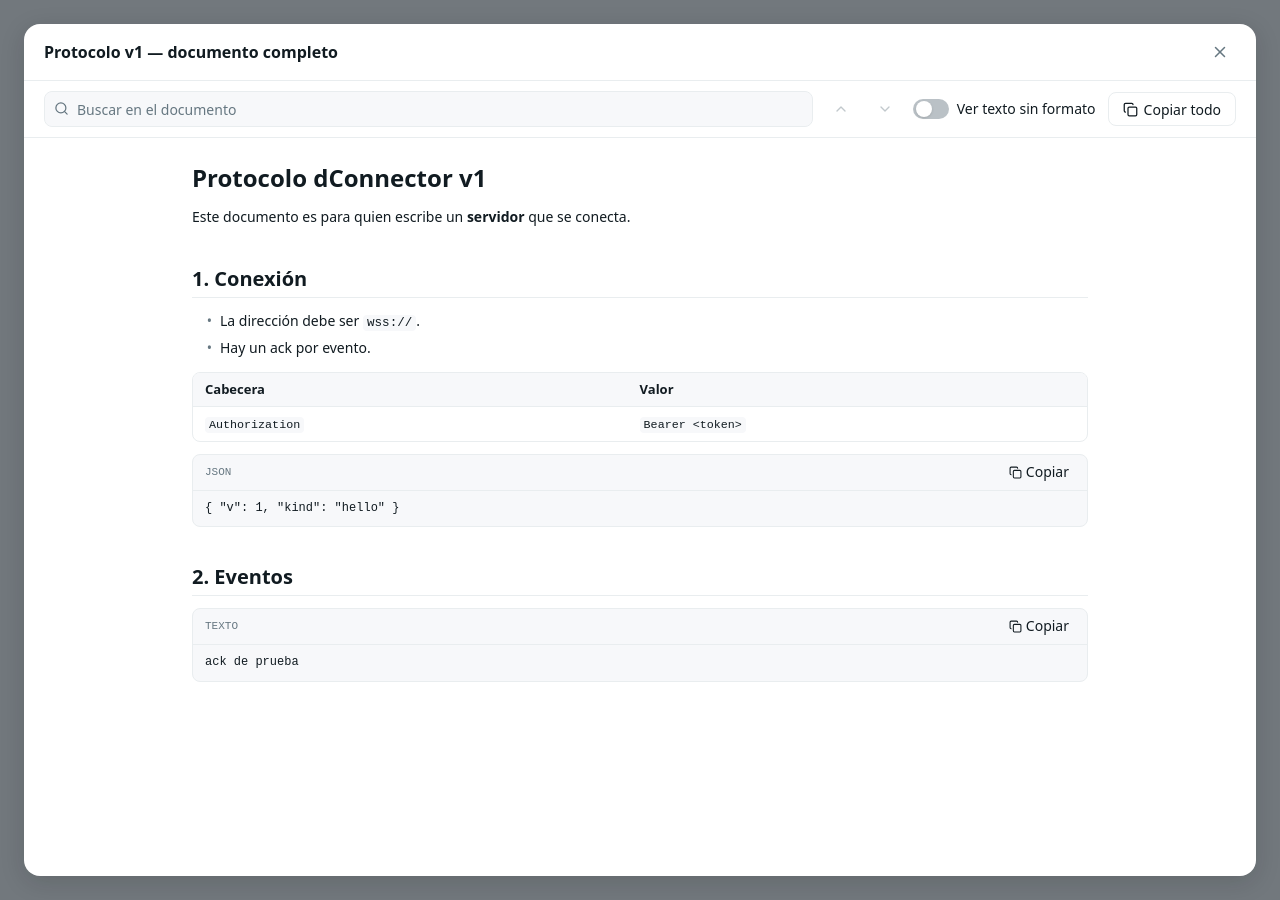
Test case: diálogo del protocolo › buscar resalta, cuenta y salta entre coincidencias
expect the heading "Protocolo dConnector v1" is shown: met, box [192,161,486,194]
Type "ACK" into the search field labelled "Buscar en el documento". click: (428, 109)
box: [44,91,813,127]
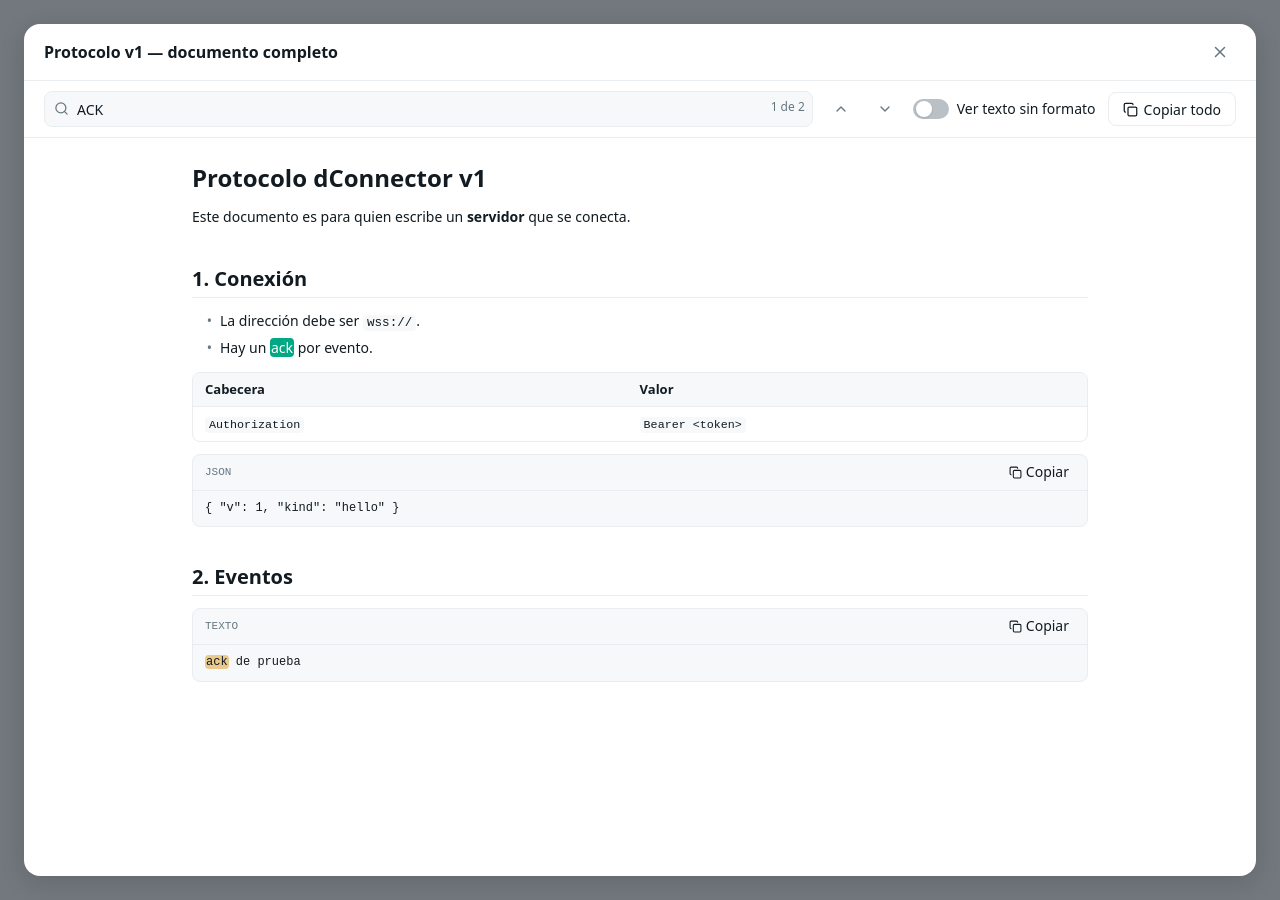
expect the text with test id "md-count" reads "1 de 2": met, box [771,98,805,115]
Press Enter in the search field named "Buscar en el documento", box [44,91,813,127]
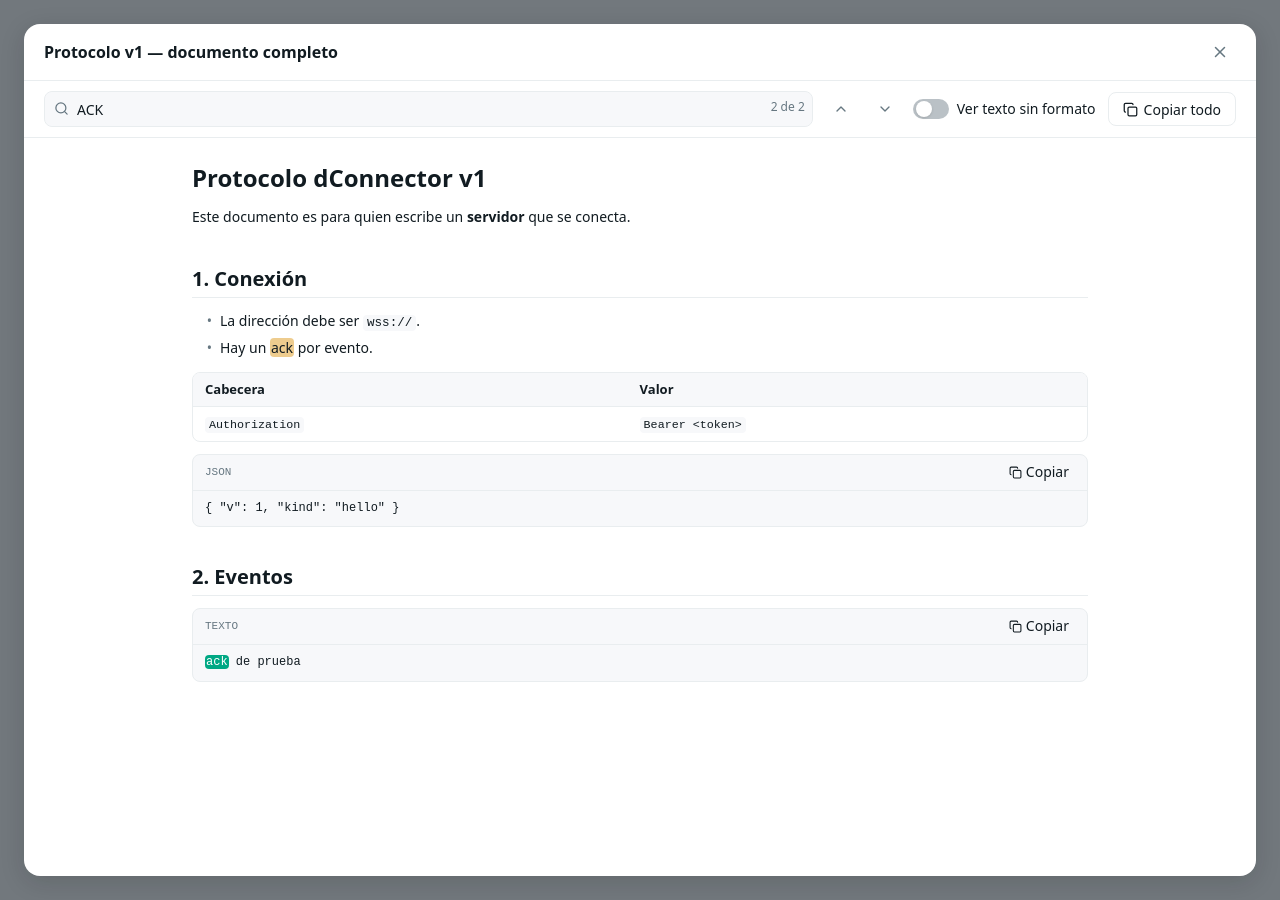
expect the text with test id "md-count" reads "2 de 2": met, box [771,98,805,115]
Note: Da la vuelta.
Click the button named "Resultado siguiente". click: (885, 109)
box: [869,93,901,125]
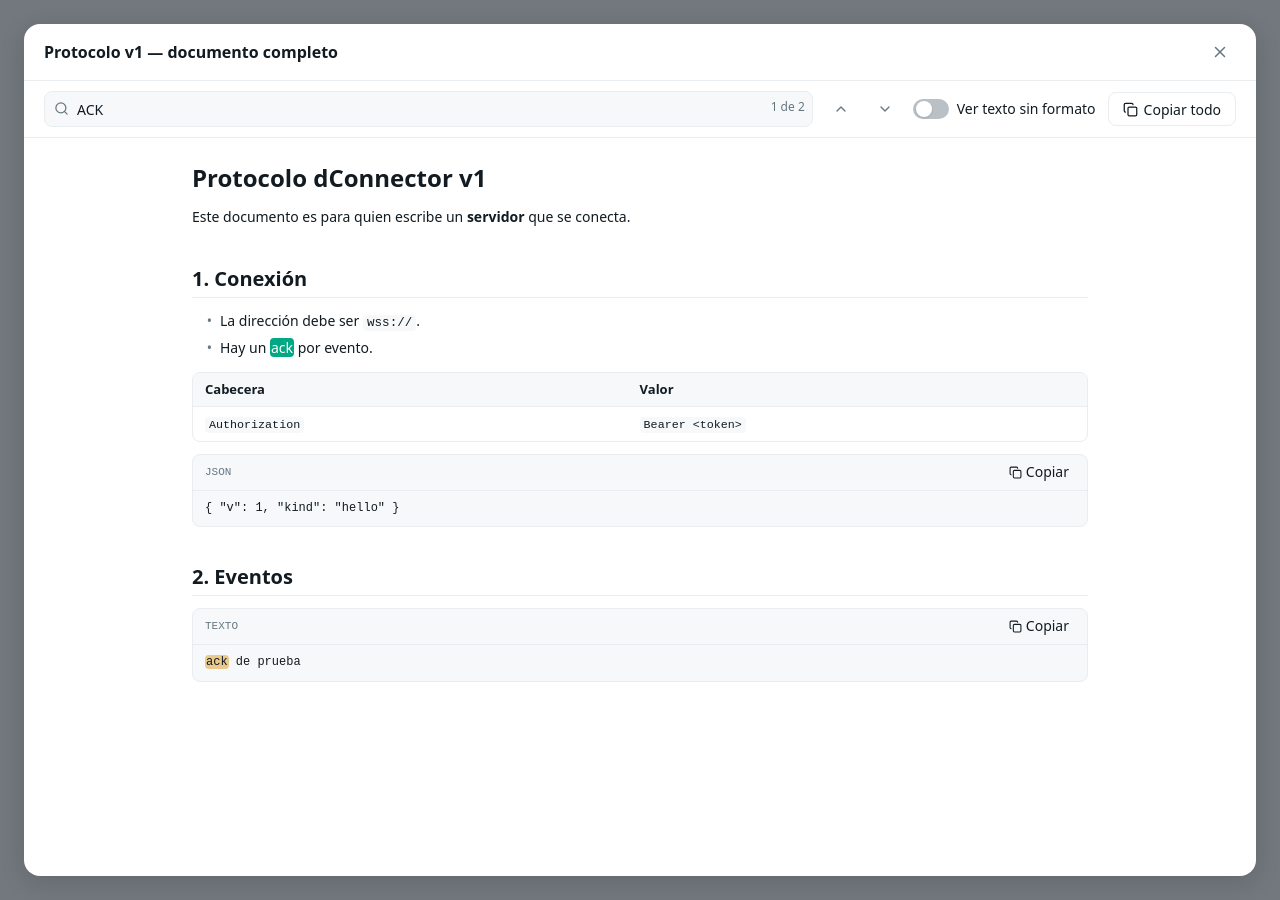
expect the text with test id "md-count" reads "1 de 2": met, box [771,98,805,115]
Click the button named "Resultado anterior". click: (841, 109)
box: [825,93,857,125]
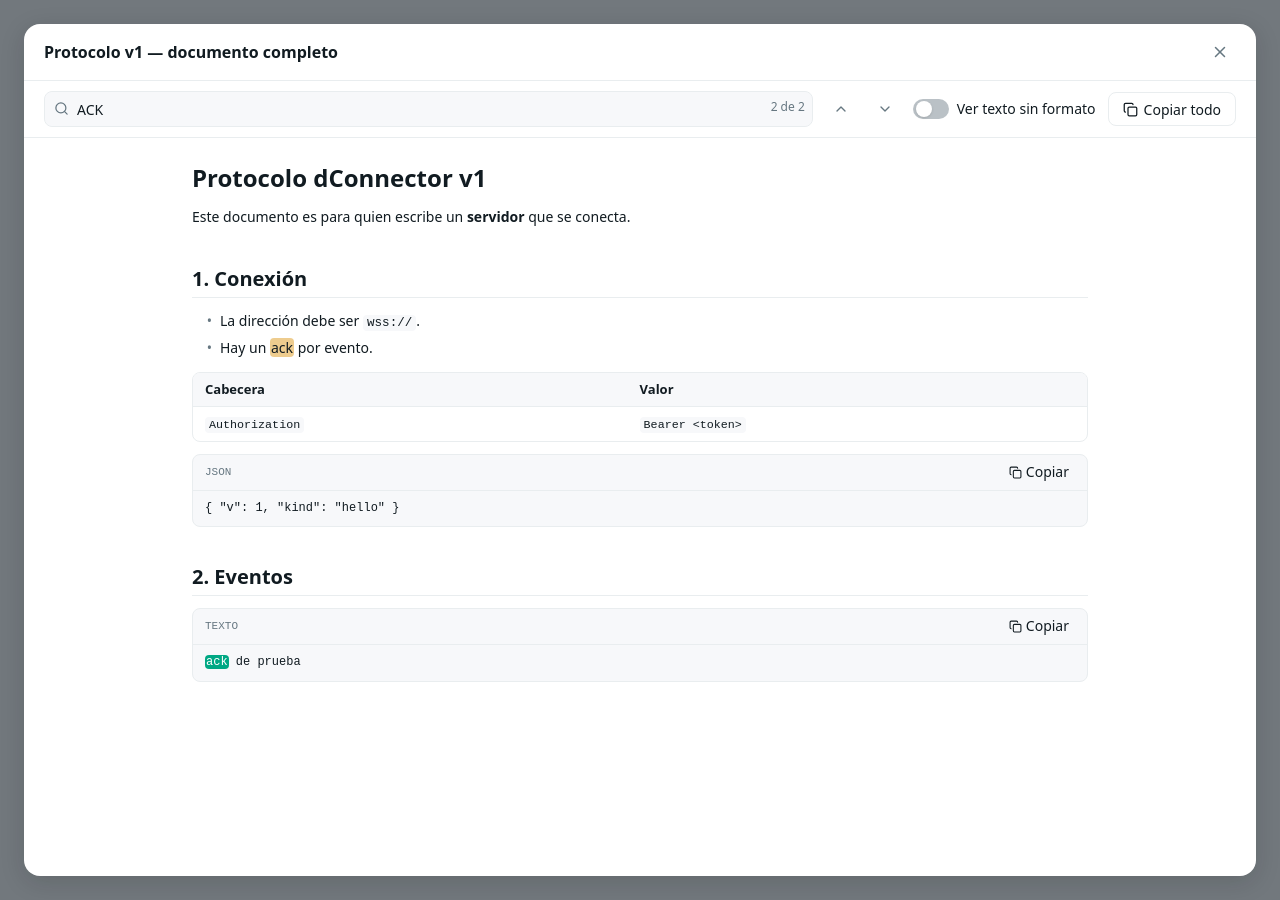
expect the text with test id "md-count" reads "2 de 2": met, box [771,98,805,115]
Press Enter in the search field named "Buscar en el documento", box [44,91,813,127]
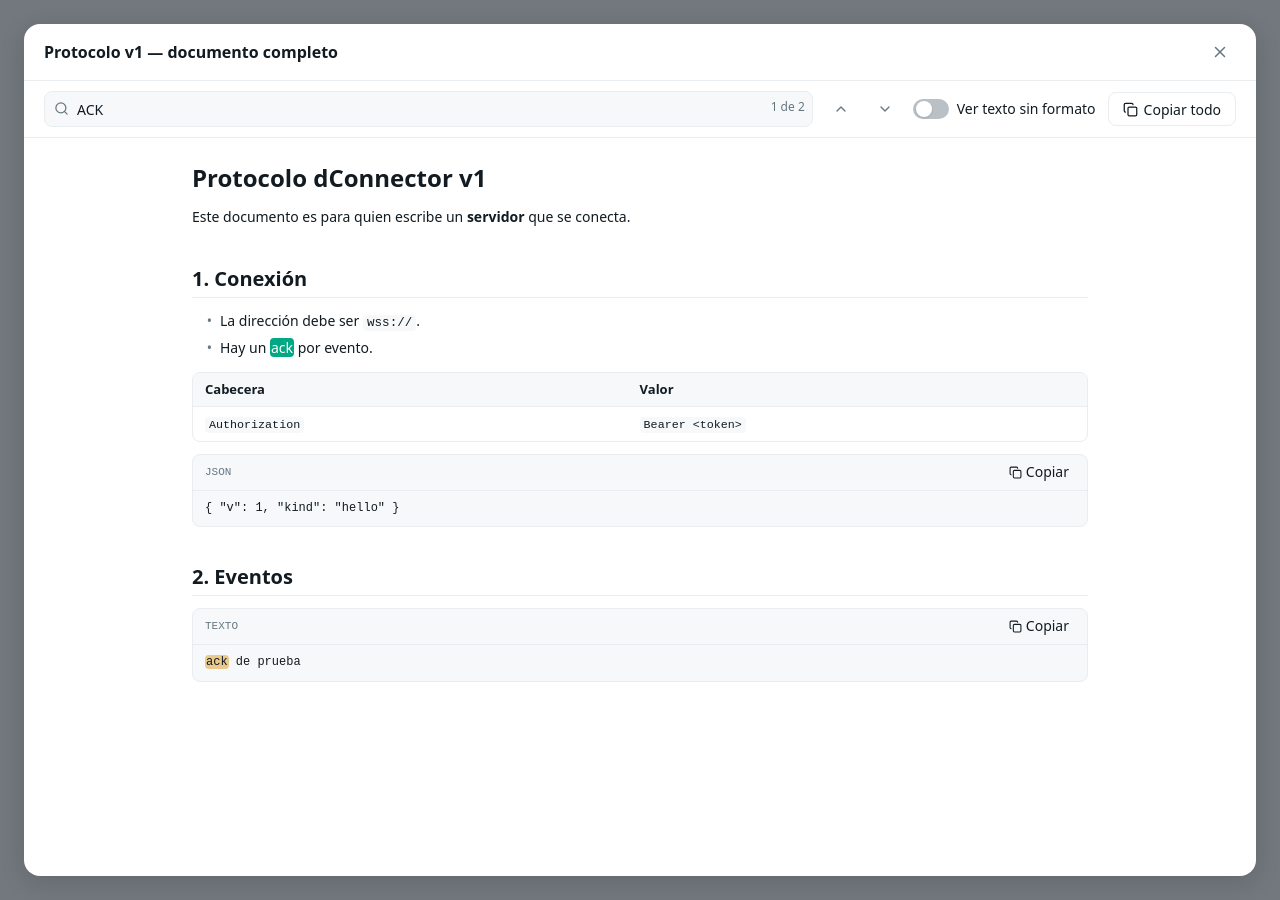
expect the text with test id "md-count" reads "1 de 2": met, box [771,98,805,115]
